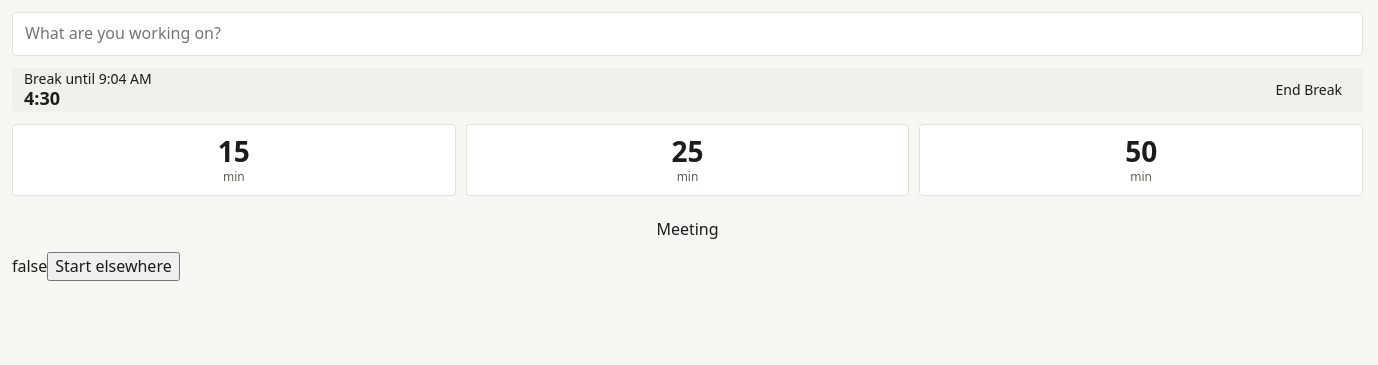
Test: FocusTimer › holds End break while a start is out
Click the button "25 min": (688,160) 466,124 -> 909,196
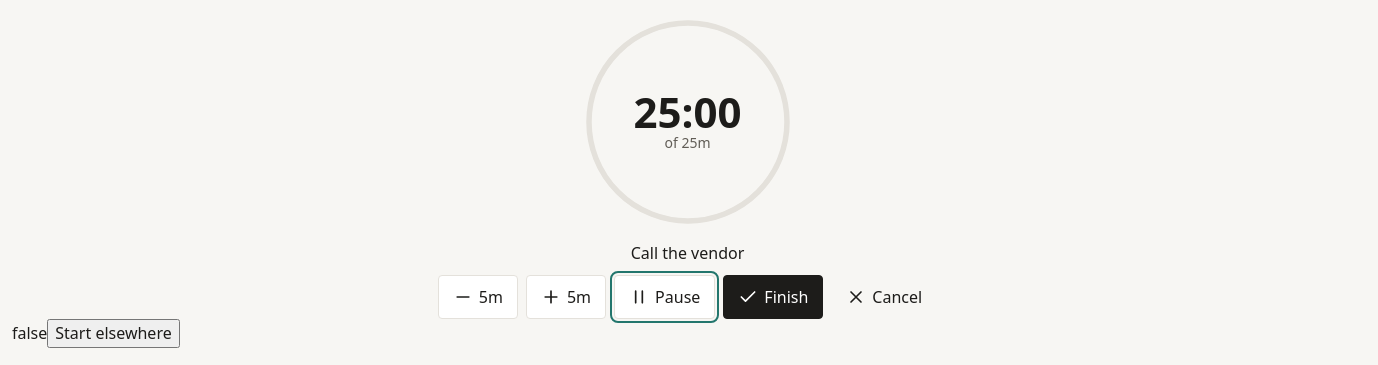
Now the button "End Break" is gone
Now the text "25:00" is shown, box 634,91 -> 742,133
